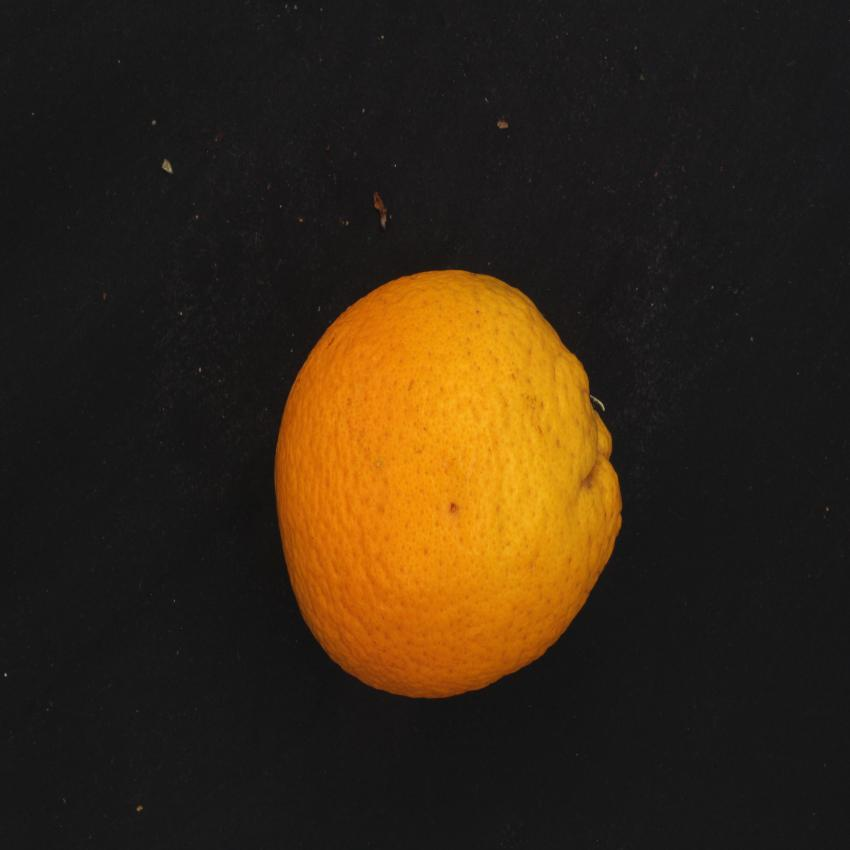Buen estado: (262, 255, 630, 713)
